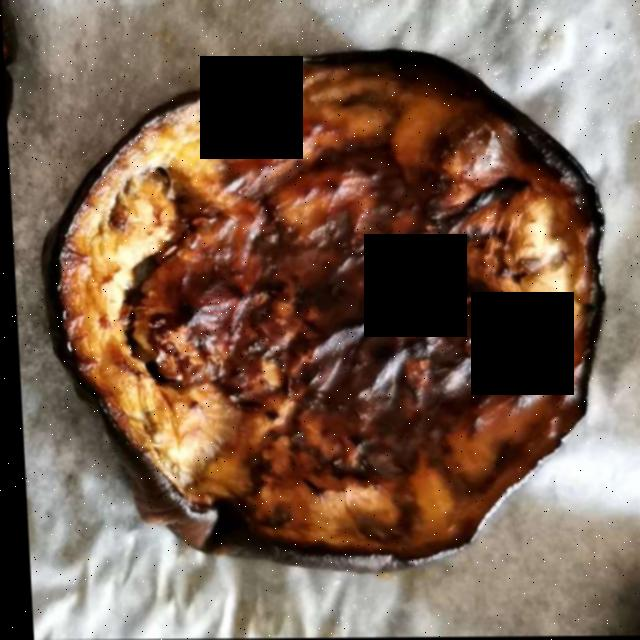eggplant: (64, 63, 599, 560)
